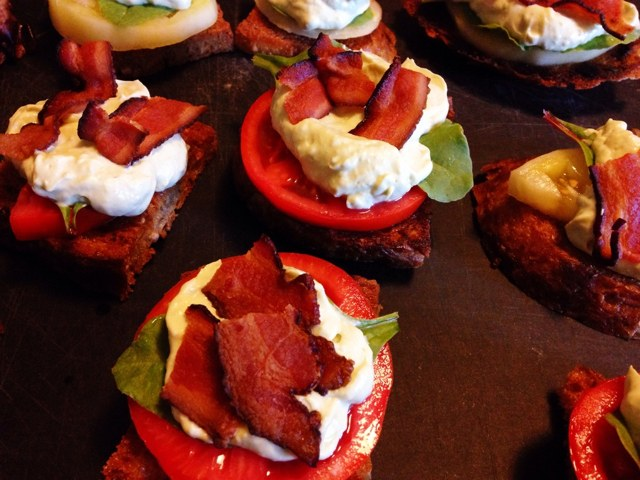tomato: (126, 254, 394, 479), (239, 88, 425, 226), (510, 147, 639, 277), (568, 373, 639, 479), (10, 184, 110, 244)
